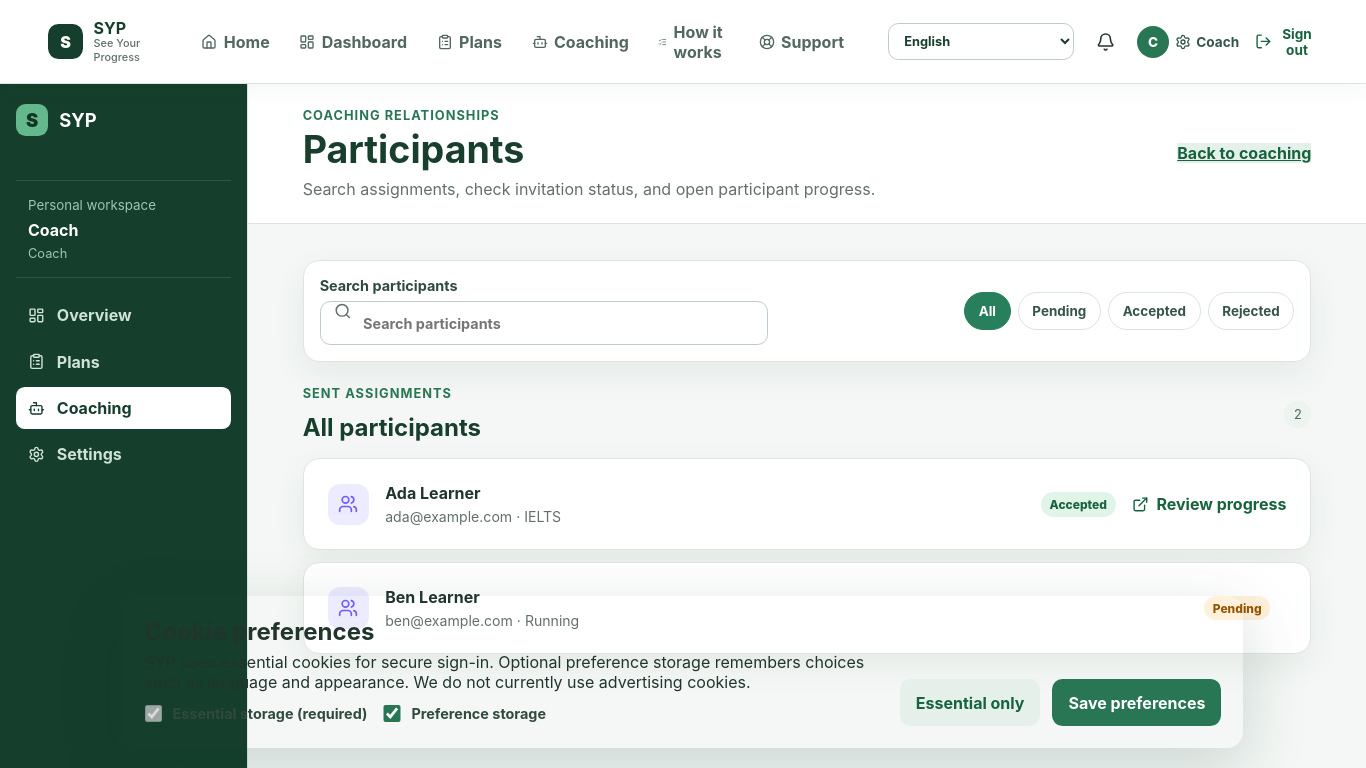
lets a coach search and filter participants on a dedicated page
Check: the heading "Participants" is shown, box 303,127 -> 524,172
Check: the text "Ada Learner" is shown, box 385,483 -> 481,503
Type "Ada" into the field with placeholder "Search participants" at (544, 323), box 320,301 -> 768,345
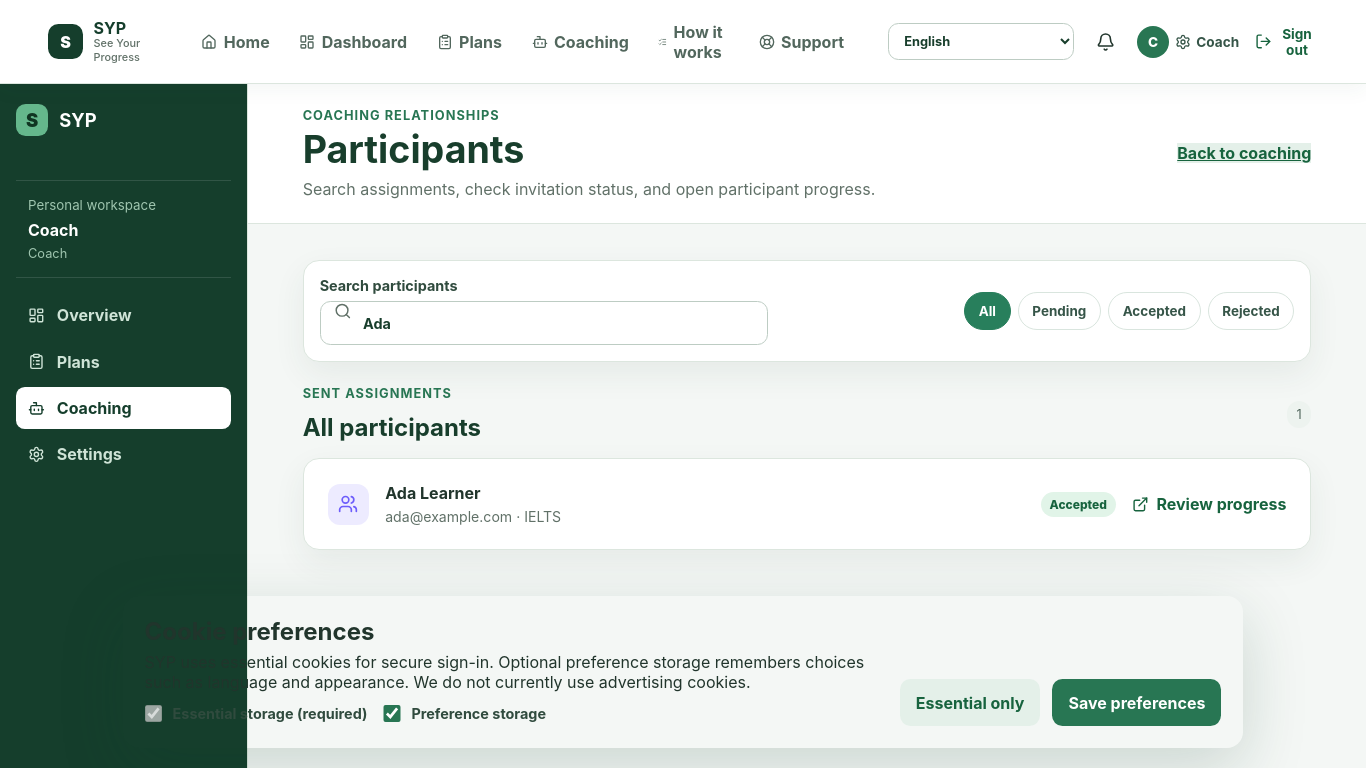
Check: the text "Ada Learner" is shown, box 385,483 -> 481,503
Check: the text "Ben Learner" is gone
